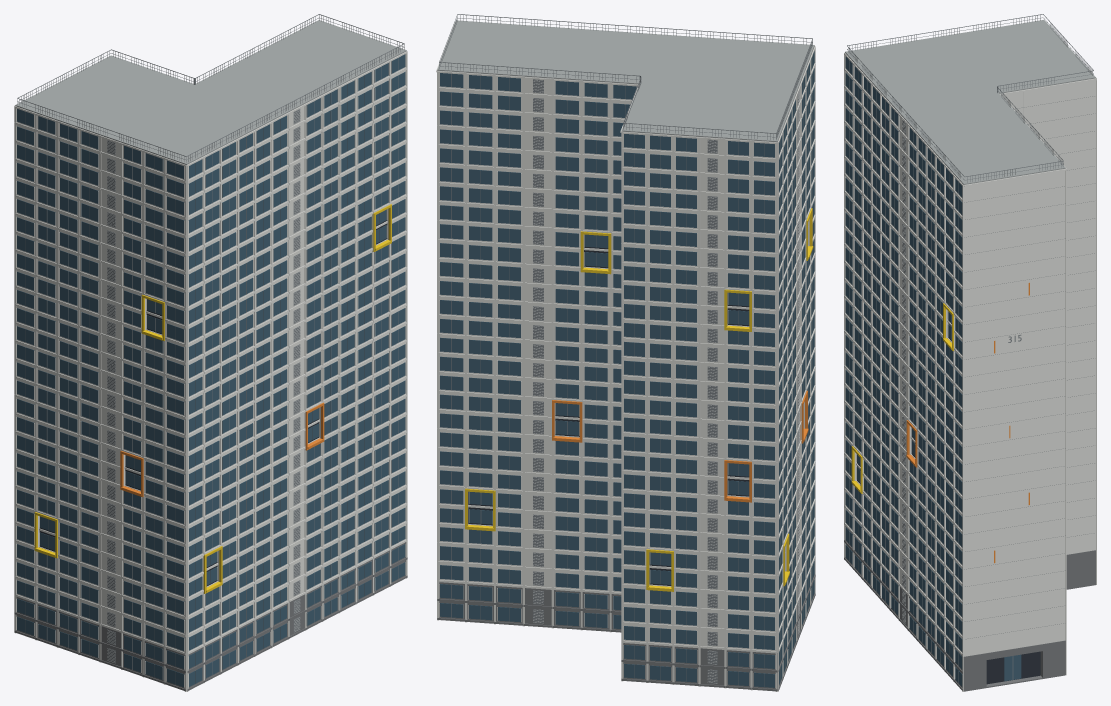
The model's file is bespoke-songpa-helio-city-315.glb.
3 renders of one model, left to right at view 1: azimuth 30°, elevation 25°; view 2: azimuth 150°, elevation 25°; view 3: azimuth 270°, elevation 25°, orthographic. The views are drawn at different scales.
Visible parts, largest first — view 1: Helio315_editable_Helio315_dark_blue_grey_glazing002, Helio315_editable_Helio315_white_slab_frames002, Helio315_editable_Helio315_low_roof_deck002, Helio315_editable_Helio315_grey_service_grille002, Helio315_editable_Helio315_dark_grey_twofloor_base002, Helio315_editable_Helio315_blankwall_grey_panels002, Helio315_editable_Helio315_yellow_projecting_rectangular_fra, Helio315_editable_Helio315_orange_narrow_accent002; view 2: Helio315_editable_Helio315_dark_blue_grey_glazing002, Helio315_editable_Helio315_white_slab_frames002, Helio315_editable_Helio315_low_roof_deck002, Helio315_editable_Helio315_grey_service_grille002, Helio315_editable_Helio315_dark_grey_twofloor_base002, Helio315_editable_Helio315_blankwall_grey_panels002, Helio315_editable_Helio315_yellow_projecting_rectangular_fra, Helio315_editable_Helio315_orange_narrow_accent002, Helio315_editable_Helio315_deep_shaded_frame_recess002; view 3: Helio315_editable_Helio315_white_slab_frames002, Helio315_editable_Helio315_dark_blue_grey_glazing002, Helio315_editable_Helio315_low_roof_deck002, Helio315_editable_Helio315_grey_service_grille002, Helio315_editable_Helio315_dark_grey_twofloor_base002, Helio315_editable_Helio315_blankwall_grey_panels002, Helio315_editable_Helio315_deep_shaded_frame_recess002, Helio315_editable_Helio315_yellow_projecting_rectangular_fra, Helio315_editable_Helio315_orange_narrow_accent002.
Part boxes in pixels (left/top/right/bottom): Helio315_editable_Helio315_dark_blue_grey_glazing002: left=17, top=54, right=405, bottom=687; Helio315_editable_Helio315_white_slab_frames002: left=14, top=51, right=407, bottom=691; Helio315_editable_Helio315_low_roof_deck002: left=15, top=20, right=406, bottom=164; Helio315_editable_Helio315_grey_service_grille002: left=17, top=14, right=404, bottom=684; Helio315_editable_Helio315_dark_grey_twofloor_base002: left=14, top=542, right=407, bottom=691; Helio315_editable_Helio315_blankwall_grey_panels002: left=107, top=109, right=299, bottom=662; Helio315_editable_Helio315_yellow_projecting_rectangular_fra: left=34, top=204, right=391, bottom=593; Helio315_editable_Helio315_orange_narrow_accent002: left=120, top=402, right=324, bottom=497; Helio315_editable_Helio315_dark_blue_grey_glazing002: left=440, top=51, right=814, bottom=687; Helio315_editable_Helio315_white_slab_frames002: left=436, top=21, right=815, bottom=691; Helio315_editable_Helio315_low_roof_deck002: left=437, top=20, right=814, bottom=142; Helio315_editable_Helio315_grey_service_grille002: left=439, top=14, right=812, bottom=686; Helio315_editable_Helio315_dark_grey_twofloor_base002: left=437, top=574, right=815, bottom=691; Helio315_editable_Helio315_blankwall_grey_panels002: left=533, top=80, right=799, bottom=683; Helio315_editable_Helio315_yellow_projecting_rectangular_fra: left=465, top=208, right=813, bottom=591; Helio315_editable_Helio315_orange_narrow_accent002: left=552, top=390, right=808, bottom=502; Helio315_editable_Helio315_deep_shaded_frame_recess002: left=468, top=235, right=749, bottom=585; Helio315_editable_Helio315_white_slab_frames002: left=844, top=21, right=1096, bottom=691; Helio315_editable_Helio315_dark_blue_grey_glazing002: left=845, top=56, right=1021, bottom=686; Helio315_editable_Helio315_low_roof_deck002: left=845, top=20, right=1095, bottom=184; Helio315_editable_Helio315_grey_service_grille002: left=847, top=14, right=1095, bottom=683; Helio315_editable_Helio315_dark_grey_twofloor_base002: left=844, top=526, right=1095, bottom=691; Helio315_editable_Helio315_blankwall_grey_panels002: left=902, top=92, right=1023, bottom=623; Helio315_editable_Helio315_deep_shaded_frame_recess002: left=857, top=320, right=1040, bottom=684; Helio315_editable_Helio315_yellow_projecting_rectangular_fra: left=851, top=303, right=954, bottom=493; Helio315_editable_Helio315_orange_narrow_accent002: left=906, top=282, right=1029, bottom=563.
Size of the model in its own units: 56.74 by 82.4 by 36.72.
